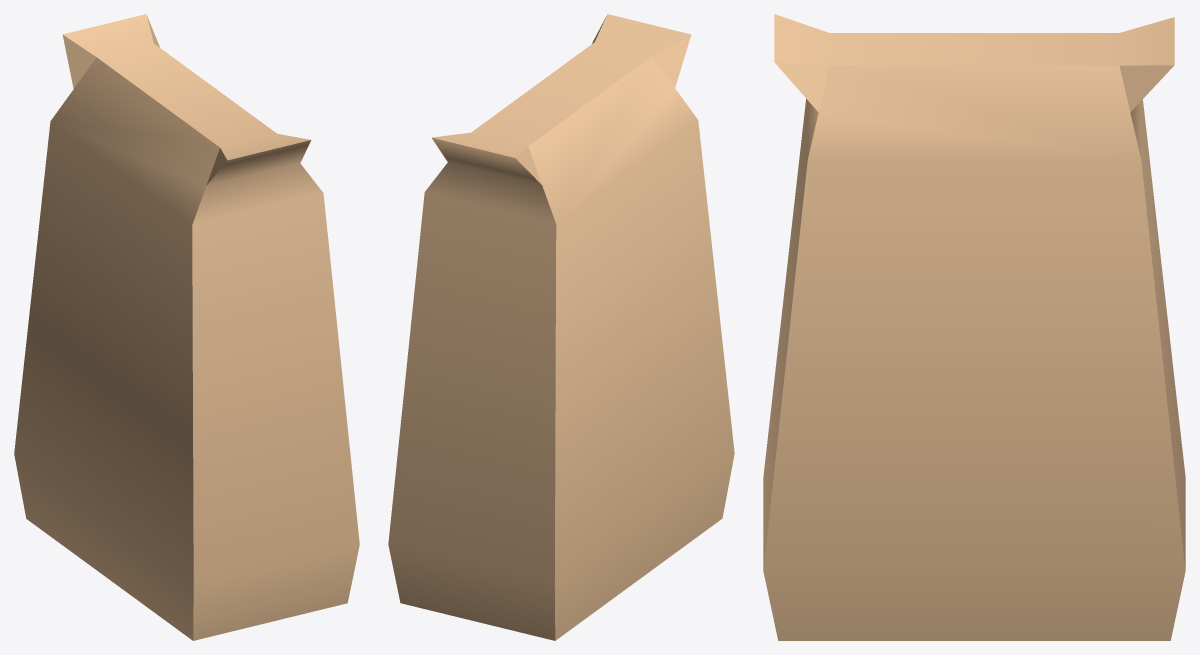
The model's file is bag.GLB.
3 views of the same model, side by side, from view 1: azimuth 30°, elevation 25°; view 2: azimuth 150°, elevation 25°; view 3: azimuth 270°, elevation 25° (orthographic). The views are drawn at different scales.
Visible parts, largest first — view 1: bag; view 2: bag; view 3: bag.
Part boxes in pixels (<box>): bag: <box>14,14,359,640</box>; bag: <box>388,14,734,640</box>; bag: <box>763,14,1185,640</box>.
Size of the model in its own units: 0.2201 by 0.5998 by 0.4118.
